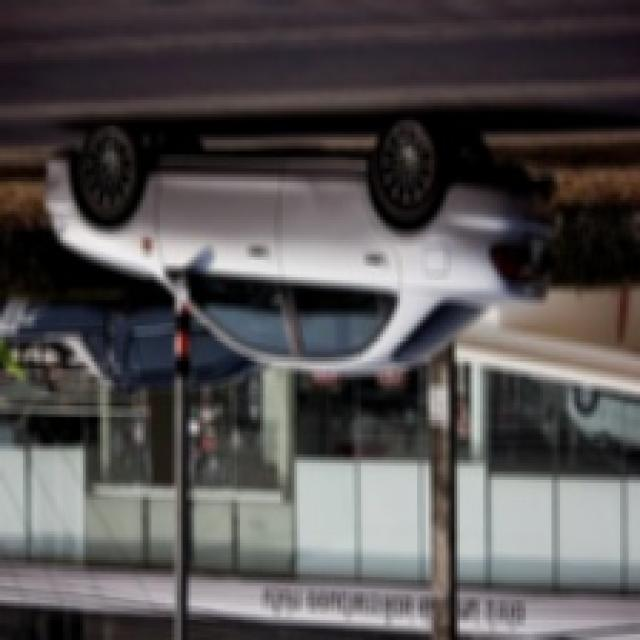car: (48, 121, 561, 351)
